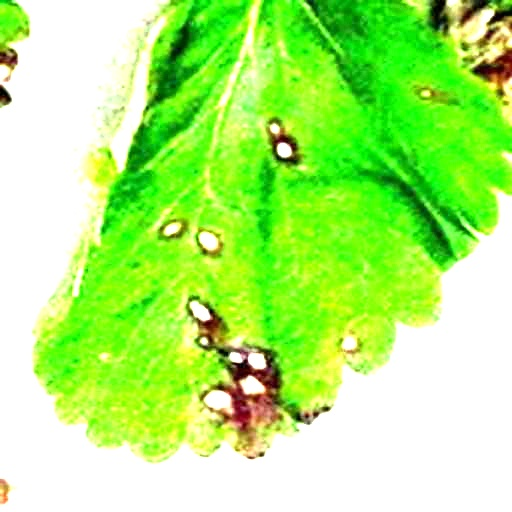Leaf Spot: (27, 0, 511, 470)
